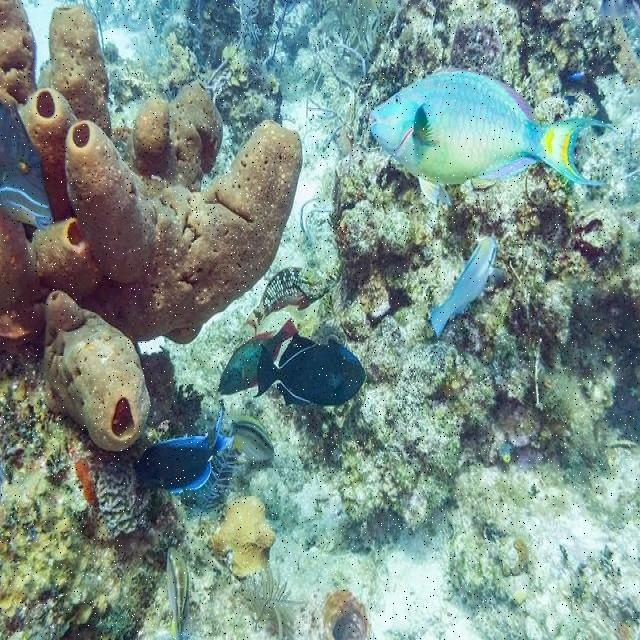fish: (368, 70, 620, 207), (138, 408, 232, 496), (253, 336, 364, 408), (426, 238, 497, 339), (0, 101, 53, 229), (217, 317, 299, 397), (246, 269, 329, 332), (231, 416, 273, 467), (166, 548, 189, 639)
reefs: (0, 1, 303, 450)
